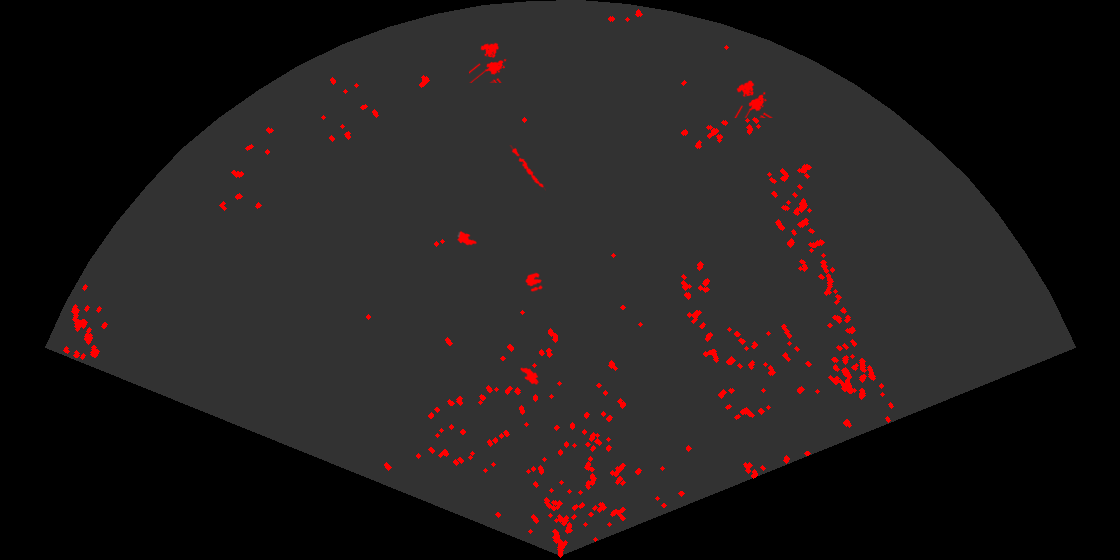AUV: (519, 366, 540, 386), (455, 229, 478, 247)
ball: (524, 271, 544, 293)
cage: (469, 41, 508, 83), (732, 79, 774, 118)
chain: (508, 145, 546, 192)
